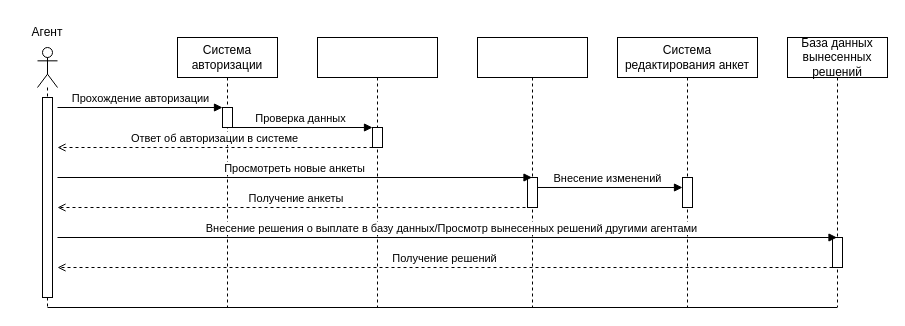
This 905x326 diagram has some shape labels left out. Each missing label, with the box of its shape:
Анкеты: (476, 36, 588, 308)
Менеджер доступа: (316, 36, 438, 308)
